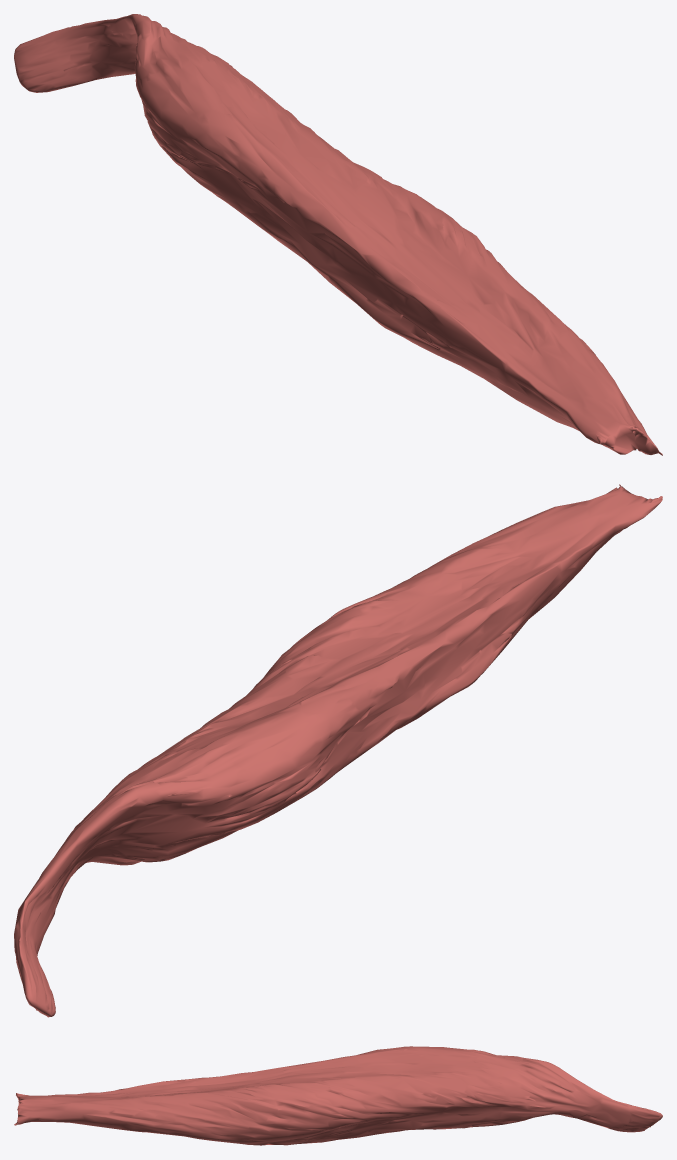
The picture shows the model from 3 angles, top to bottom: view 1: azimuth 30°, elevation 25°; view 2: azimuth 150°, elevation 25°; view 3: azimuth 270°, elevation 25°; orthographic projection. The views are drawn at different scales.
Parts seen in each view (by area): view 1: 右侧半膜肌; view 2: 右侧半膜肌; view 3: 右侧半膜肌.
Boxes of the visible parts, x1=… form: 右侧半膜肌: x1=14, y1=14, x2=662, y2=455; 右侧半膜肌: x1=14, y1=484, x2=662, y2=1017; 右侧半膜肌: x1=14, y1=1046, x2=662, y2=1145.
Size of the model in its own units: 0.094 by 0.0812 by 0.6155.
